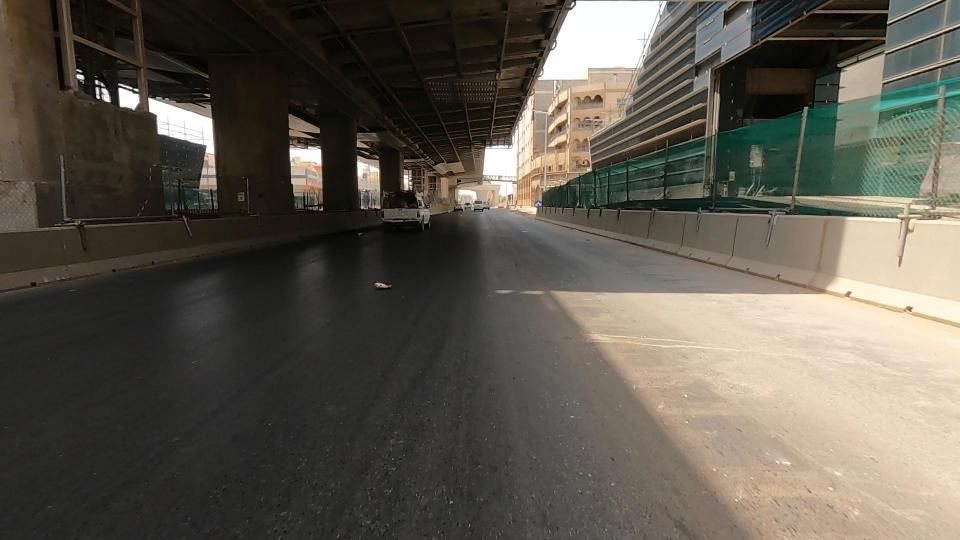CONSTRUCTION_ROAD: (627, 61, 960, 388), (522, 120, 721, 279), (95, 174, 377, 277)
GARBAGE: (331, 260, 429, 316)
